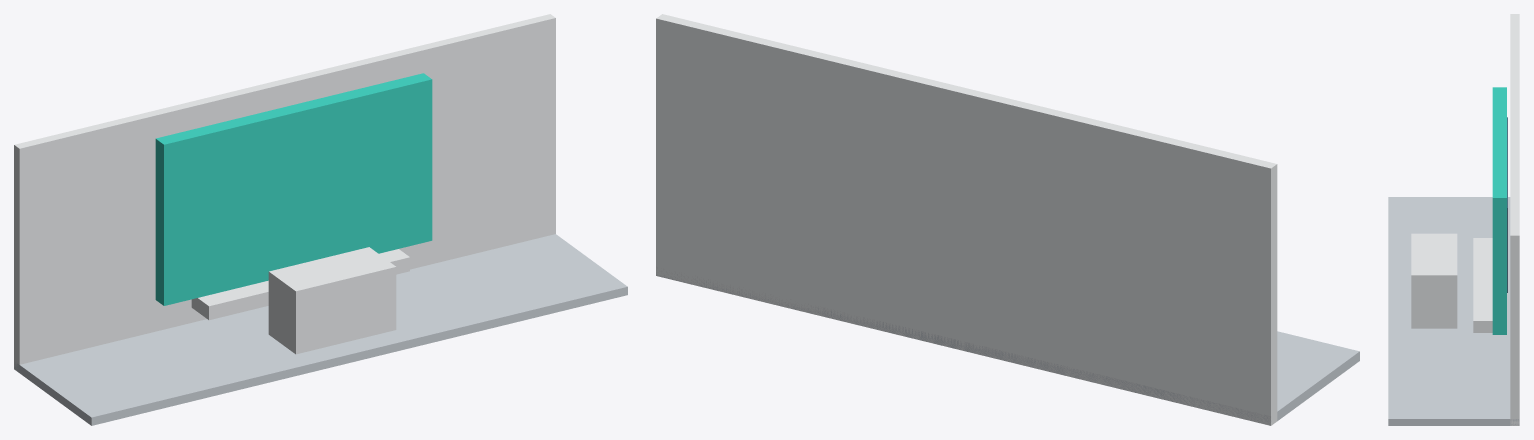
3 renders of one model, left to right at view 1: azimuth 30°, elevation 25°; view 2: azimuth 150°, elevation 25°; view 3: azimuth 270°, elevation 25°, orthographic. The views are drawn at different scales.
Parts seen in each view (by area): view 1: Exhibition Booth Concept; view 2: Exhibition Booth Concept; view 3: Exhibition Booth Concept.
Part boxes in pixels (left/top/right/bottom): Exhibition Booth Concept: left=14, top=14, right=627, bottom=425; Exhibition Booth Concept: left=656, top=14, right=1359, bottom=425; Exhibition Booth Concept: left=1388, top=14, right=1519, bottom=425.
Size of the model in its own units: 8 by 3.2 by 2.
